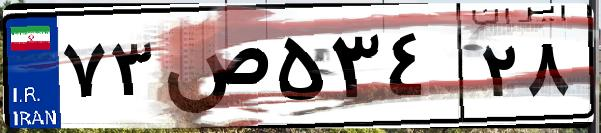2: (475, 38, 525, 113)
3: (330, 28, 385, 110), (110, 28, 158, 98)
4: (385, 28, 445, 110)
5: (270, 28, 330, 110)
7: (57, 26, 110, 100)
8: (525, 38, 570, 115)
ص: (158, 20, 270, 120)
